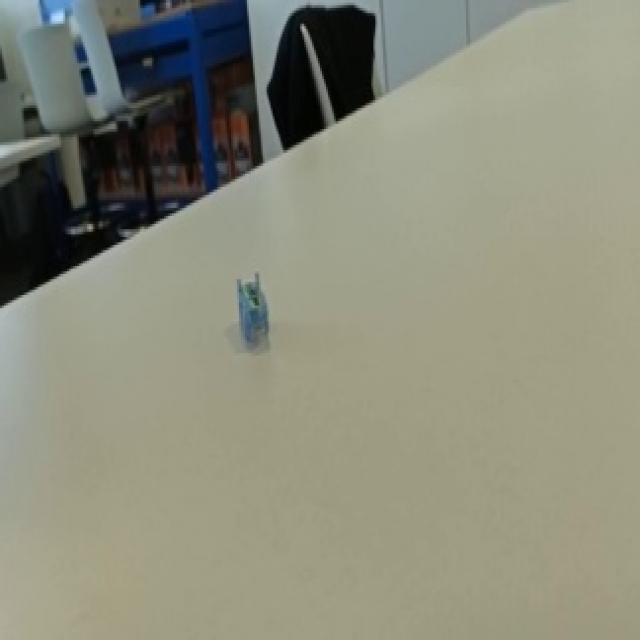3_NanoBug_Celeste: (218, 259, 300, 381)
